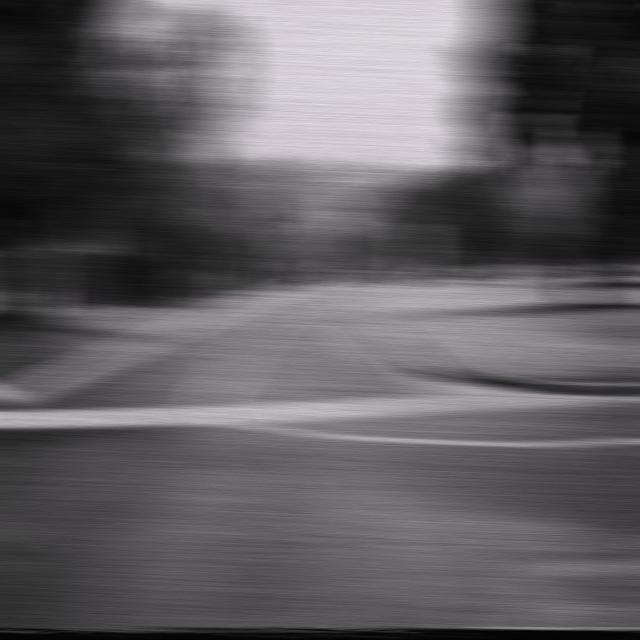speedLimit30: (397, 220, 432, 252)
